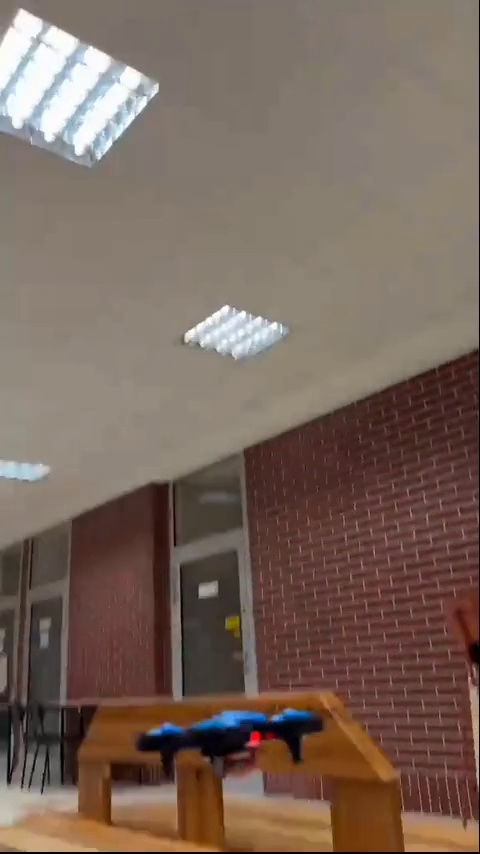drone: (137, 710, 318, 775)
